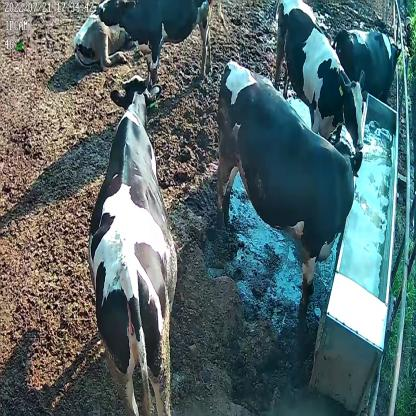cow: (214, 56, 362, 298), (90, 74, 177, 416), (273, 0, 367, 157), (96, 0, 217, 86), (334, 27, 405, 94)
